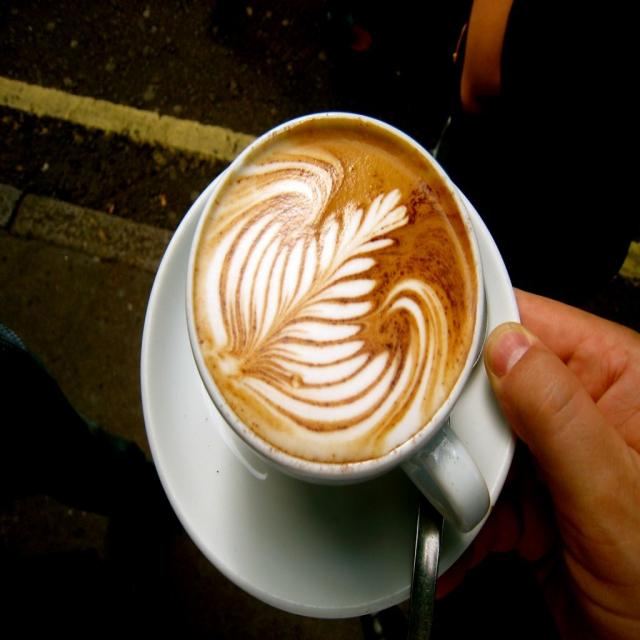latte: (187, 110, 484, 470)
